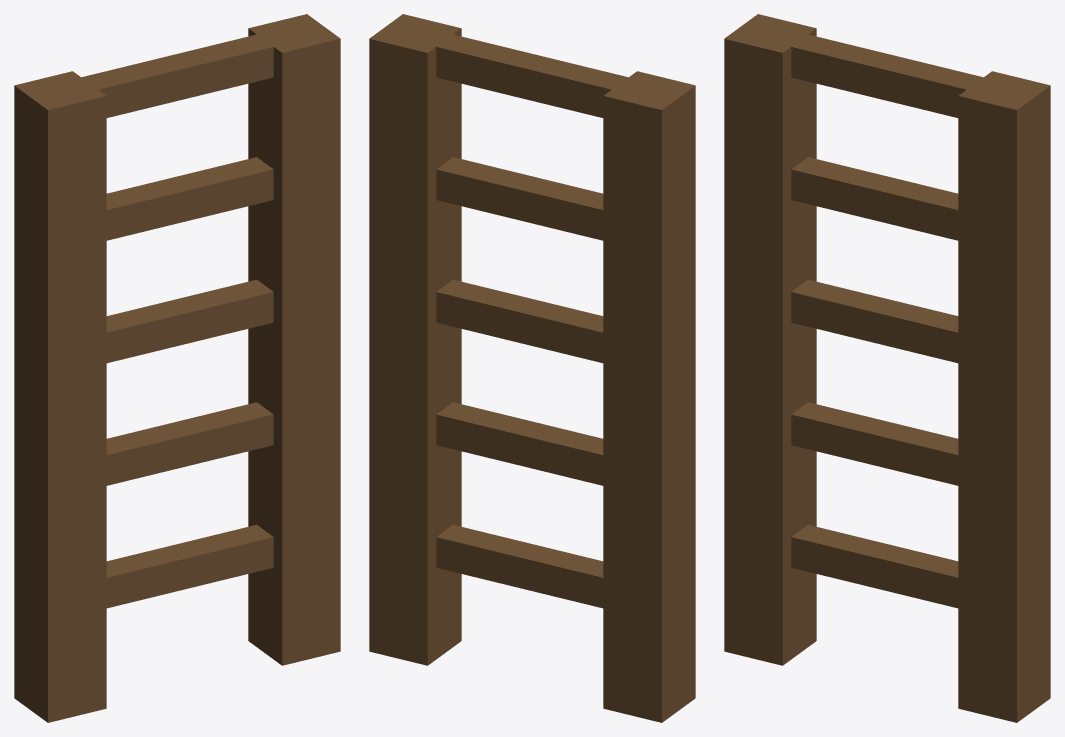
The model's file is Ladder.fbx.
3 views of the same model, side by side, from view 1: azimuth 30°, elevation 25°; view 2: azimuth 150°, elevation 25°; view 3: azimuth 330°, elevation 25° (orthographic).
Visible parts, largest first — view 1: Cube; view 2: Cube; view 3: Cube.
Part boxes in pixels (<box>): Cube: <box>14,14,340,722</box>; Cube: <box>369,14,695,722</box>; Cube: <box>724,14,1050,722</box>.
Size of the model in its own units: 2 by 4 by 0.4.
